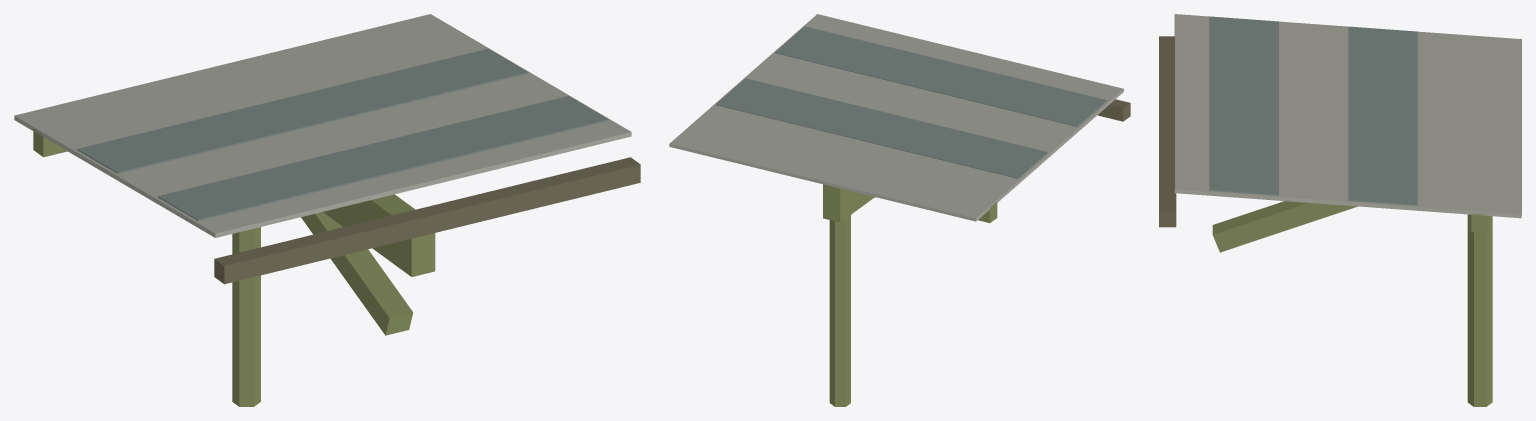
The model's file is SM_KitMarquesina_v1_LOD1.fbx.
The picture shows the model from 3 angles, left to right: view 1: azimuth 30°, elevation 25°; view 2: azimuth 150°, elevation 25°; view 3: azimuth 270°, elevation 25°; orthographic projection. The views are drawn at different scales.
Visible parts, largest first — view 1: SM_bloques.kit_marquesina_v1_LOD1; view 2: SM_bloques.kit_marquesina_v1_LOD1; view 3: SM_bloques.kit_marquesina_v1_LOD1.
Part boxes in pixels (x1=…): SM_bloques.kit_marquesina_v1_LOD1: x1=14, y1=14, x2=640, y2=406; SM_bloques.kit_marquesina_v1_LOD1: x1=669, y1=14, x2=1130, y2=406; SM_bloques.kit_marquesina_v1_LOD1: x1=1159, y1=14, x2=1521, y2=406.
Bounding box in the file's own units: 5.98 × 4.78 × 5.23.
